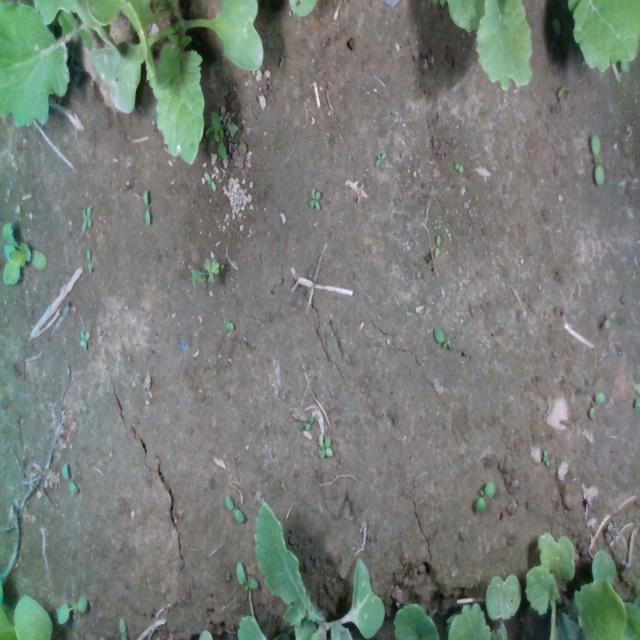weed: (56, 592, 88, 623), (589, 132, 605, 186), (191, 257, 219, 284), (235, 561, 259, 591), (474, 480, 496, 512), (223, 492, 244, 522), (60, 461, 78, 495), (431, 327, 455, 350), (587, 390, 605, 420), (317, 433, 333, 459), (141, 188, 151, 226), (80, 204, 92, 230), (309, 185, 321, 210), (78, 328, 89, 350), (604, 309, 616, 329), (374, 148, 386, 168), (540, 447, 550, 465), (85, 246, 91, 273), (304, 414, 314, 430), (434, 233, 440, 256), (454, 161, 464, 172)
